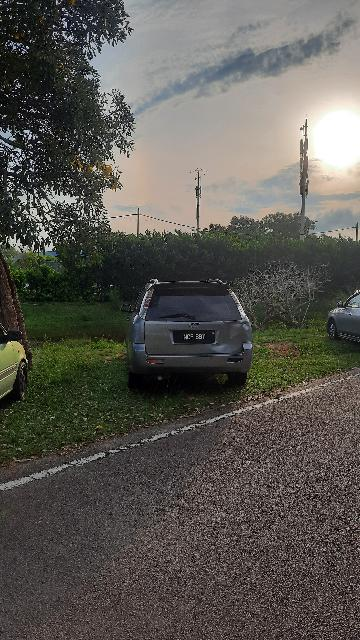License_Plate: (174, 332, 218, 346)
car: (121, 278, 255, 387)
